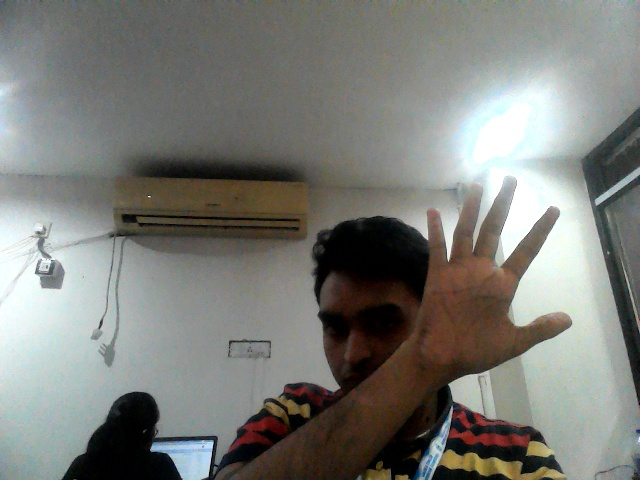palm: (411, 167, 576, 383)
